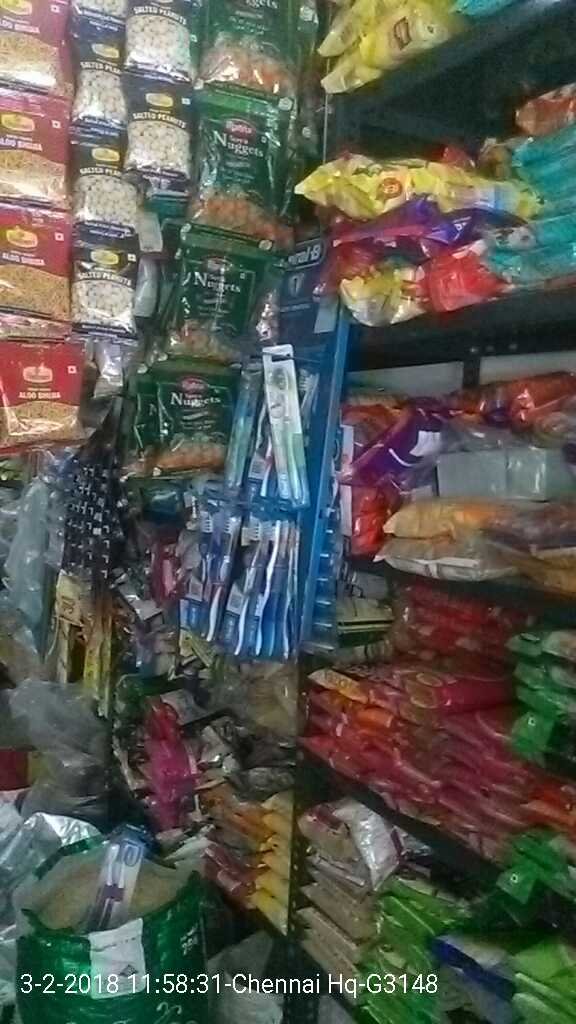oralb: (263, 350, 304, 513)
